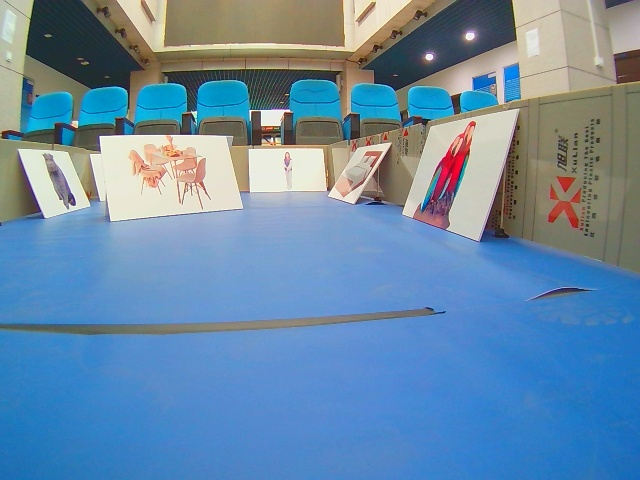bed: (335, 146, 385, 206)
person: (248, 148, 329, 193)
pet: (401, 113, 518, 245), (18, 150, 91, 217)
table: (100, 135, 244, 221)
